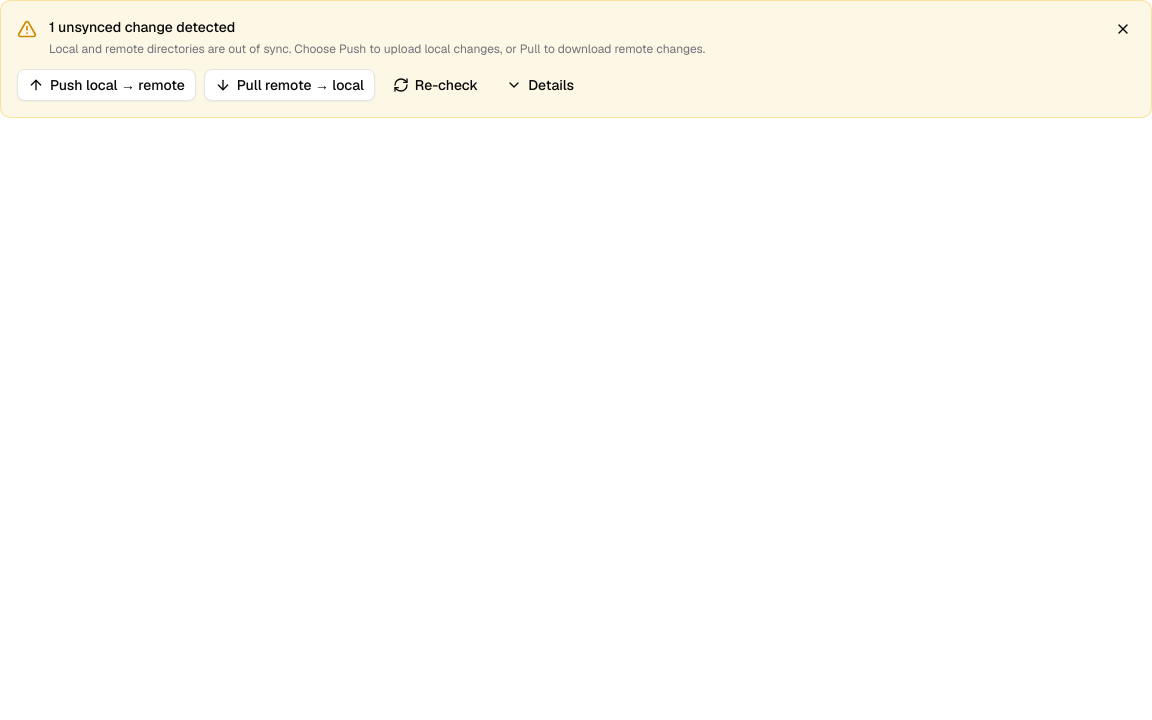
PendingChangesBanner › cancelling pull all starts nothing
The image size is (1152, 720).
Click the button "Pull remote → local": [289, 85] box left=204, top=69, right=375, bottom=101
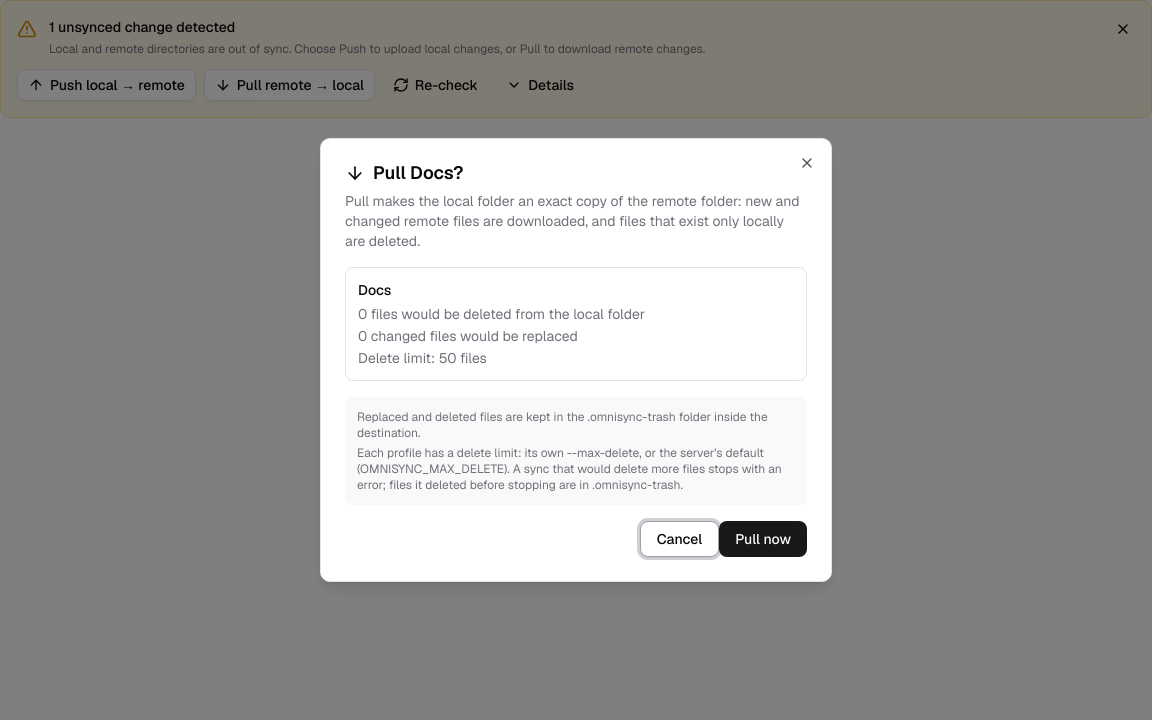
Expected: the heading "Pull Docs?" is shown, left=345, top=161, right=464, bottom=184
Click the button "Cancel": [680, 539] box left=640, top=521, right=719, bottom=557
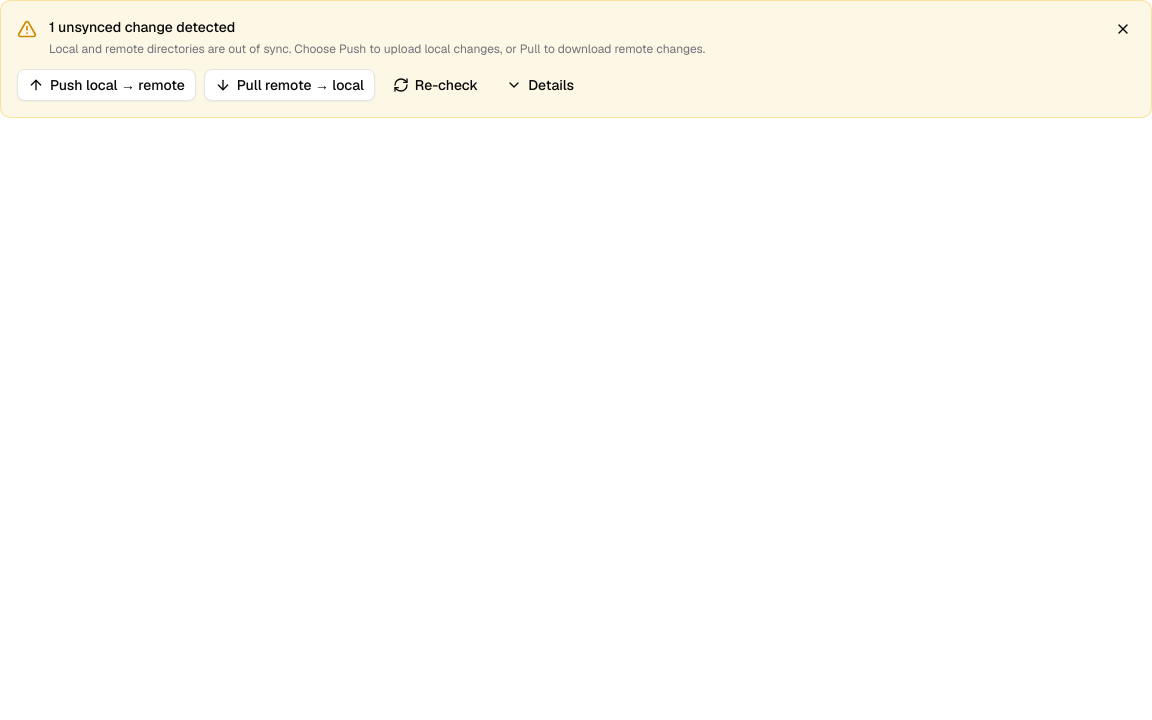
Expected: the dialog is gone
